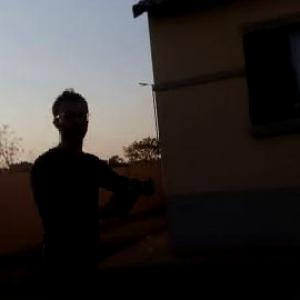follow: (37, 77, 170, 299)
